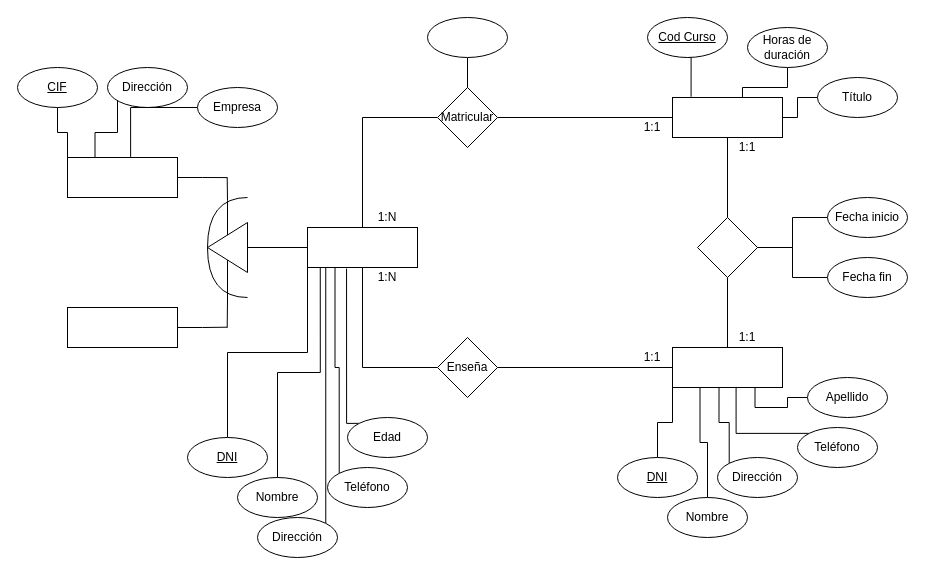
This 925x575 diagram has some shape labels left out. The shapes that lost their labels are listed below. From the top down, each one's centre as x and y in pixels, then its label:
At pixel 467 37: "Calificación".
At pixel 727 117: "Curso".
At pixel 122 177: "Trabajador".
At pixel 362 247: "Alumno".
At pixel 727 247: "Imparte".
At pixel 122 327: "Desempleado".
At pixel 727 367: "Profesor".
